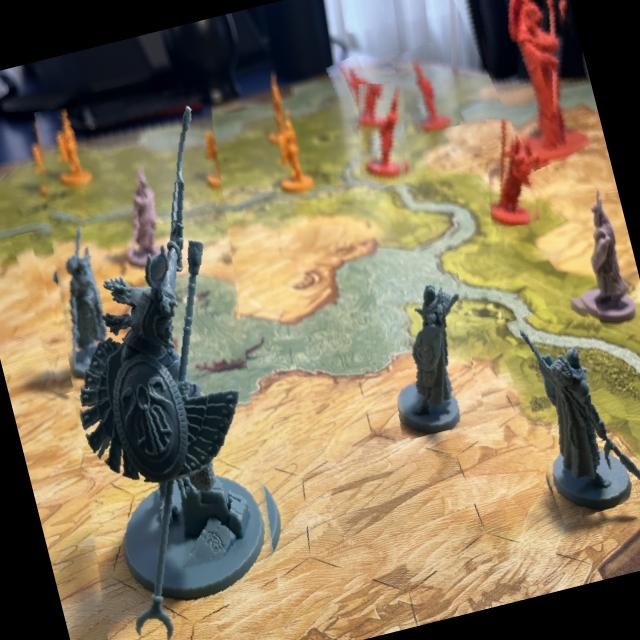amon: (457, 0, 607, 173)
amon_follower: (471, 111, 551, 231), (342, 76, 422, 192), (392, 40, 462, 137), (328, 52, 388, 142)
isis: (0, 77, 326, 640)
isis_follower: (496, 293, 640, 525), (368, 266, 492, 442), (12, 216, 127, 395)
